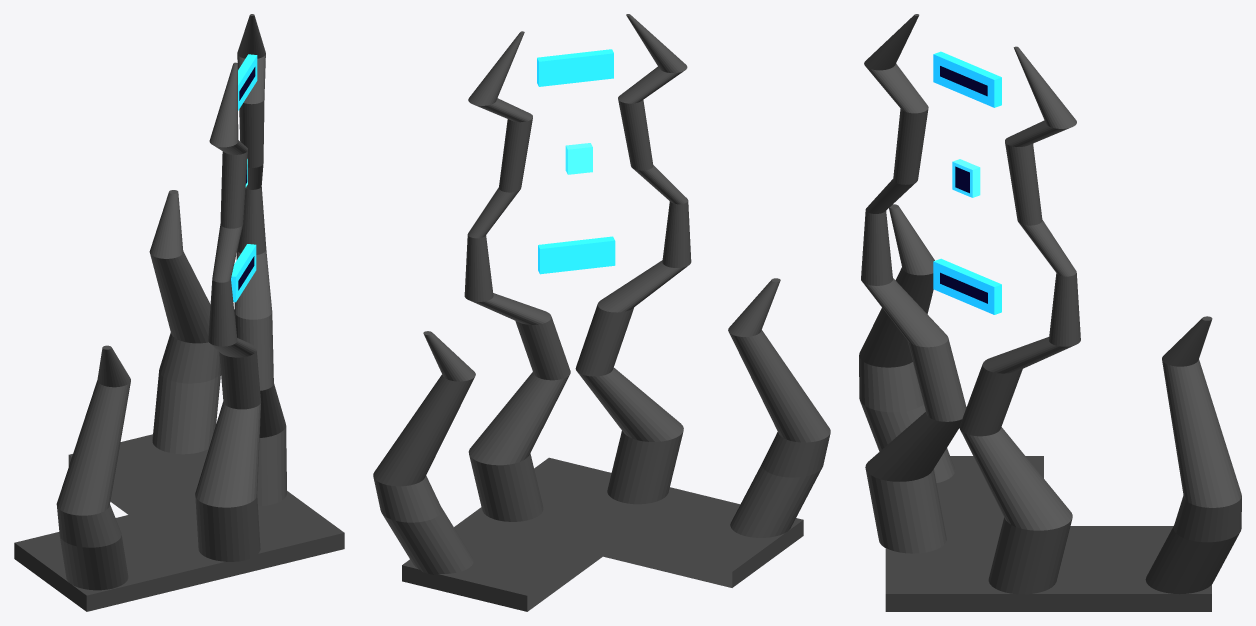
File: guardian.fbx
3 views of the same model, side by side, from view 1: azimuth 30°, elevation 25°; view 2: azimuth 150°, elevation 25°; view 3: azimuth 270°, elevation 25° (orthographic). The views are drawn at different scales.
Parts seen in each view (by area): view 1: Cube.005; view 2: Cube.005; view 3: Cube.005.
Part boxes in pixels (<box>): Cube.005: <box>14,14,344,611</box>; Cube.005: <box>373,14,830,611</box>; Cube.005: <box>859,14,1241,611</box>.
Bounding box in the file's own units: 239 × 370 × 235.
